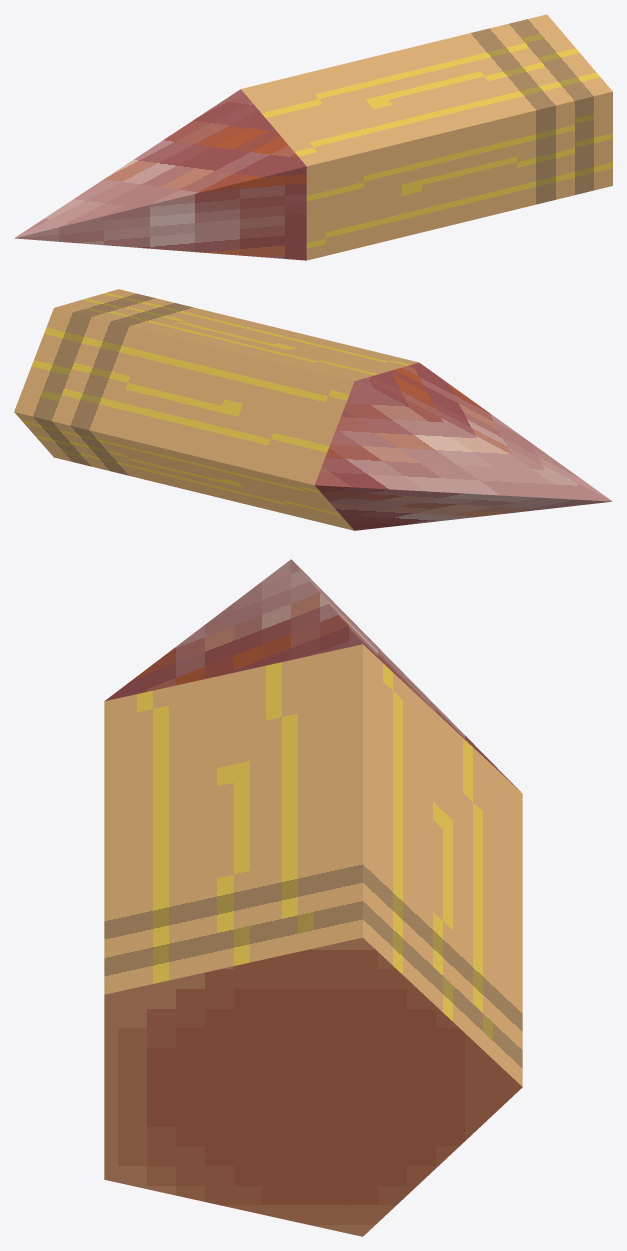
File: bullet.glb
The picture shows the model from 3 angles, top to bottom: view 1: azimuth 30°, elevation 25°; view 2: azimuth 150°, elevation 25°; view 3: azimuth 270°, elevation 25°; orthographic projection. The views are drawn at different scales.
Parts seen in each view (by area): view 1: bullet; view 2: bullet; view 3: bullet.
Boxes of the visible parts, x1,y1,x2,y2 form: bullet: (14,14,612,260); bullet: (14,289,612,530); bullet: (104,559,522,1236).
Bounding box in the file's own units: 1.69 × 0.4458 × 0.5653.
1 material, 1 textured.
